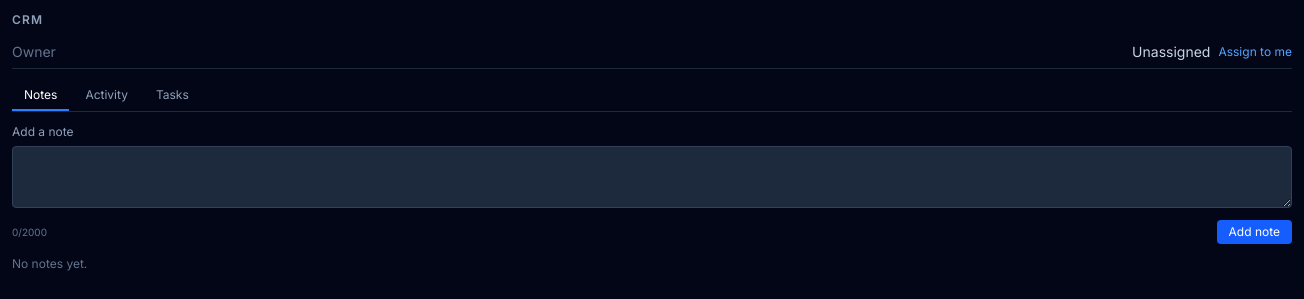
LeadCrmPanelComponent › creates tasks with a due date, completes them and highlights overdue ones
Click the tab with id "crm-tab-tasks" at (172, 96), box [144,81,201,111]
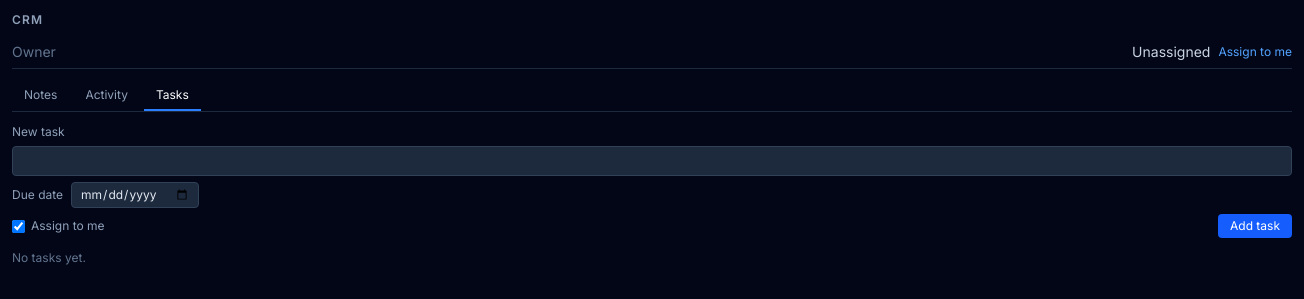
Now the text "No tasks yet." is shown, box [12,250,86,265]
Type "Send proposal" into the field with id "crm-task-title" at (652, 161), box [12,146,1292,176]
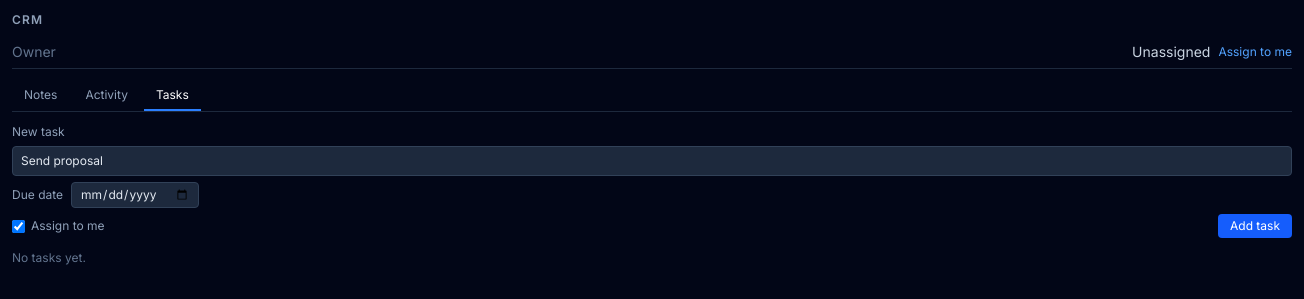
Type "2020-01-15" into the date field with id "crm-task-due" at (135, 195), box [71,182,199,208]
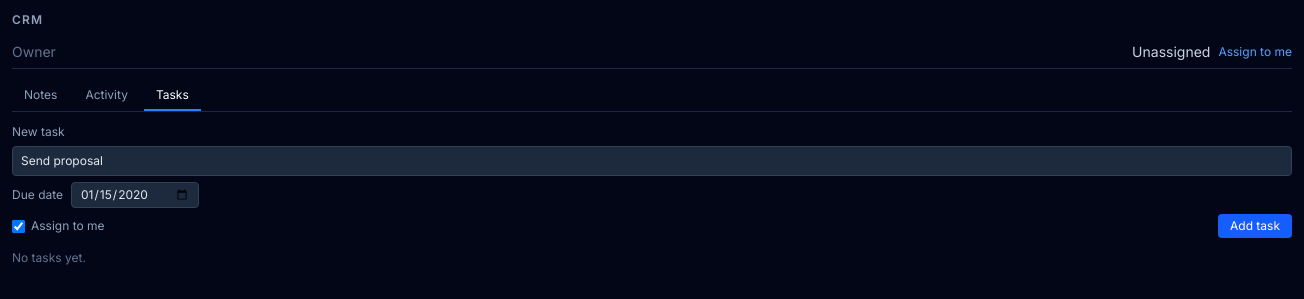
Submit the form, box [12,124,1292,238]
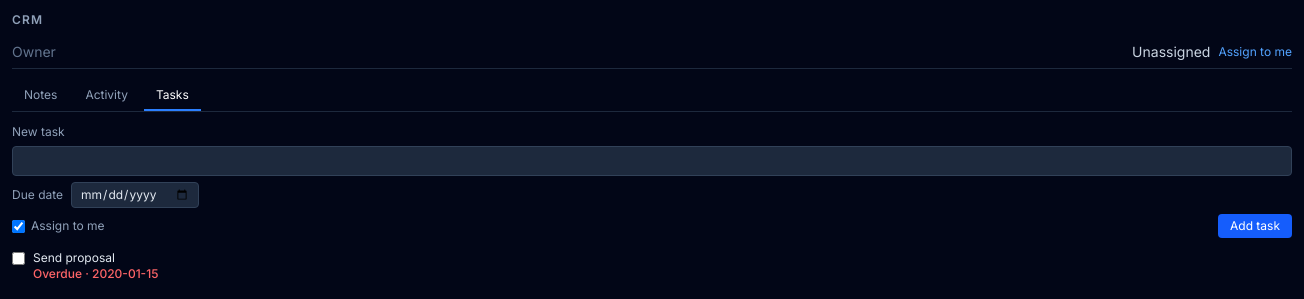
Now the list item with test id "crm-task" shows "Send proposal", box [33,250,115,265]
Now the list item with test id "crm-task" shows "Overdue · 2020-01-15", box [33,266,158,281]
Now the text "Overdue · 2020-01-15" is shown, box [33,266,158,282]
Click the checkbox labelled "Send proposal Overdue · 2020-01-15" at (18, 258), box [12,252,25,265]
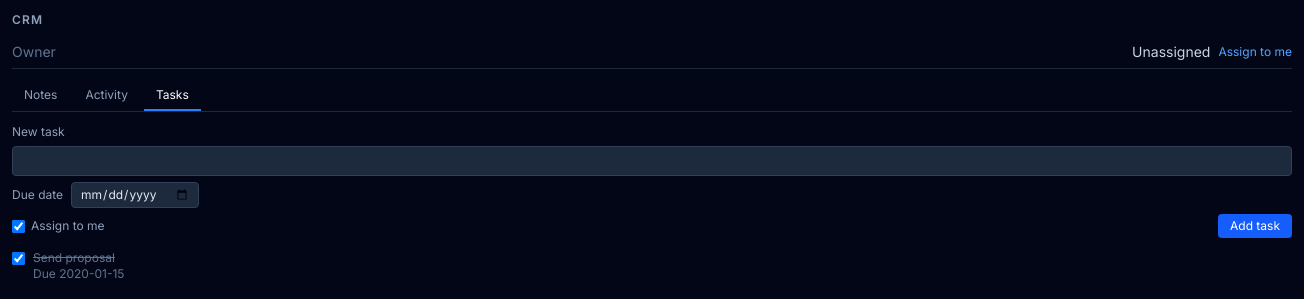
Now the text "Send proposal" is shown, box [33,250,124,266]
Now the text with test id "crm-task" no longer shows "Overdue"
